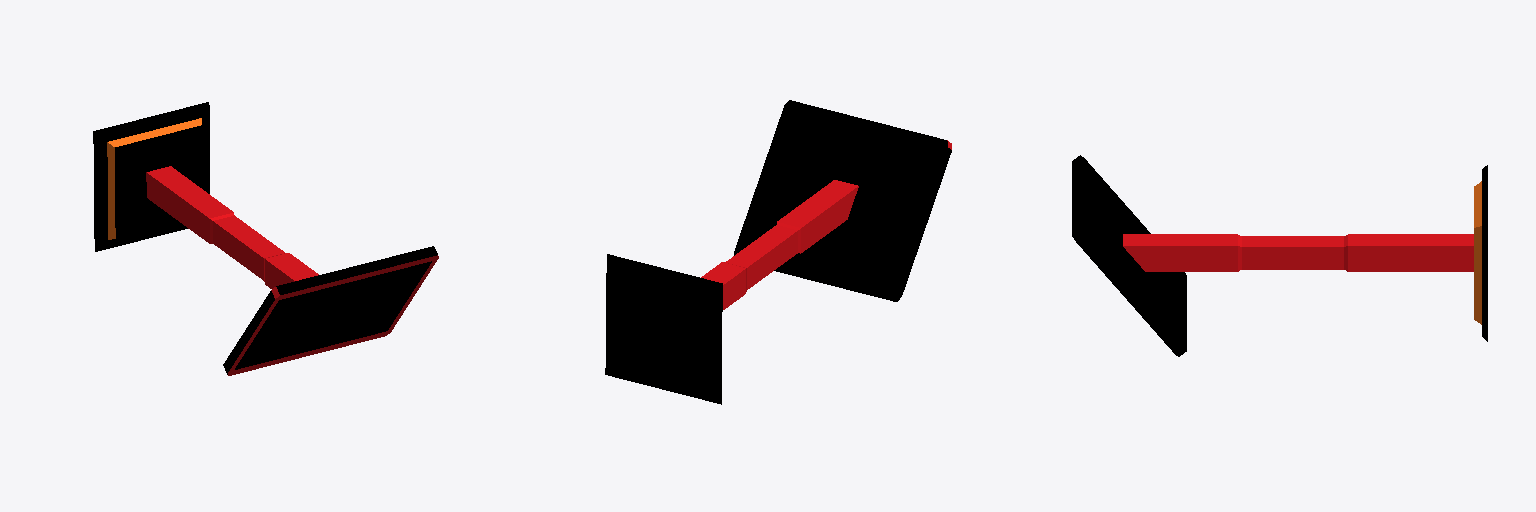
Rendered from scifi_podium.obj.
The picture shows the model from 3 angles: view 1: azimuth 30°, elevation 25°; view 2: azimuth 150°, elevation 25°; view 3: azimuth 270°, elevation 25°; orthographic projection.
Visible parts, largest first — view 1: Object.1; view 2: Object.1; view 3: Object.1.
Boxes of the visible parts, box(x1,y1,x2,y2) form: Object.1: box(93, 102, 438, 375); Object.1: box(605, 100, 951, 404); Object.1: box(1072, 155, 1487, 356).
Bounding box in the file's own units: 28.43 × 21.17 × 62.01.